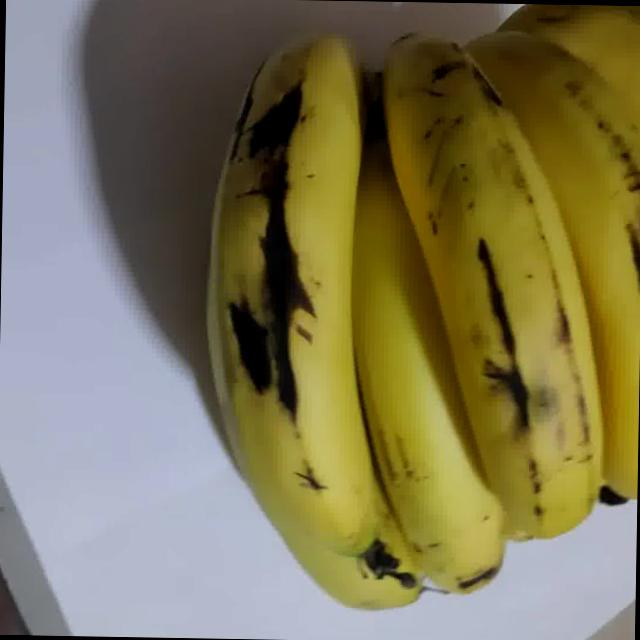banana_pacche: (111, 9, 640, 640)
